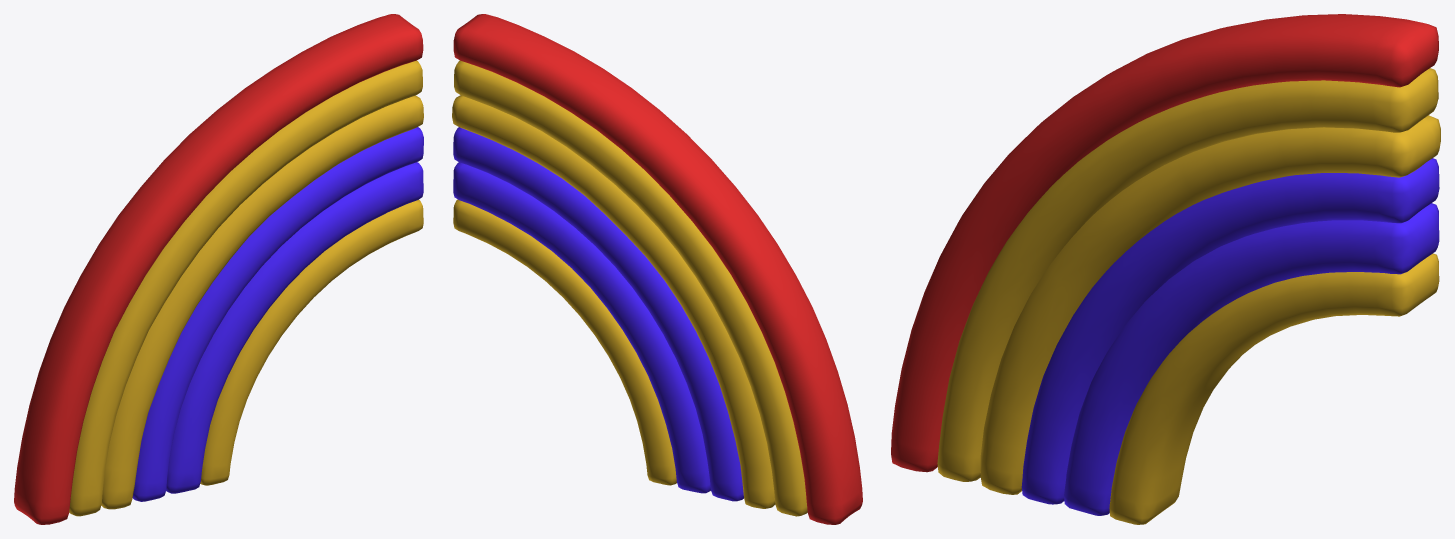
File: rainbow FBX.glb
The picture shows the model from 3 angles, left to right: view 1: azimuth 30°, elevation 25°; view 2: azimuth 150°, elevation 25°; view 3: azimuth 330°, elevation 25°; orthographic projection. The views are drawn at different scales.
Parts seen in each view (by area): view 1: rainbow, R2, R3, R4, R5, R6; view 2: rainbow, R2, R3, R4, R5, R6; view 3: rainbow, R2, R3, R4, R5, R6.
Boxes of the visible parts, x1,y1,x2,y2 form: rainbow: (14, 14, 423, 524); R2: (69, 60, 422, 516); R3: (101, 95, 423, 509); R4: (132, 127, 423, 501); R5: (166, 162, 423, 493); R6: (200, 199, 423, 485); rainbow: (453, 14, 862, 524); R2: (454, 60, 807, 516); R3: (452, 95, 775, 508); R4: (453, 127, 743, 501); R5: (453, 162, 710, 493); R6: (453, 199, 676, 485); rainbow: (891, 14, 1438, 472); R2: (937, 68, 1438, 481); R3: (980, 115, 1440, 494); R4: (1021, 158, 1439, 504); R5: (1064, 203, 1439, 515); R6: (1109, 253, 1439, 524).
Bounding box in the file's own units: 0.956 × 0.9568 × 0.1405.
